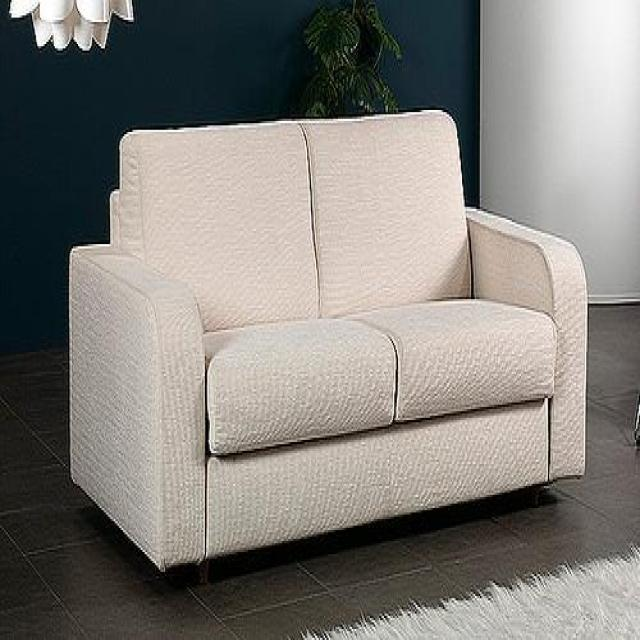sofa: (68, 108, 591, 592)
